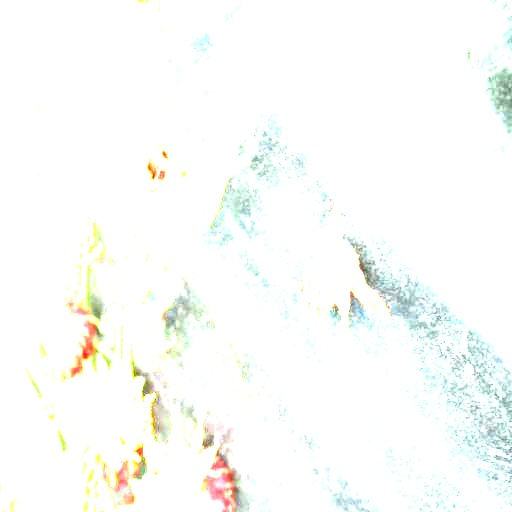Gray Mold: (293, 237, 391, 348)
